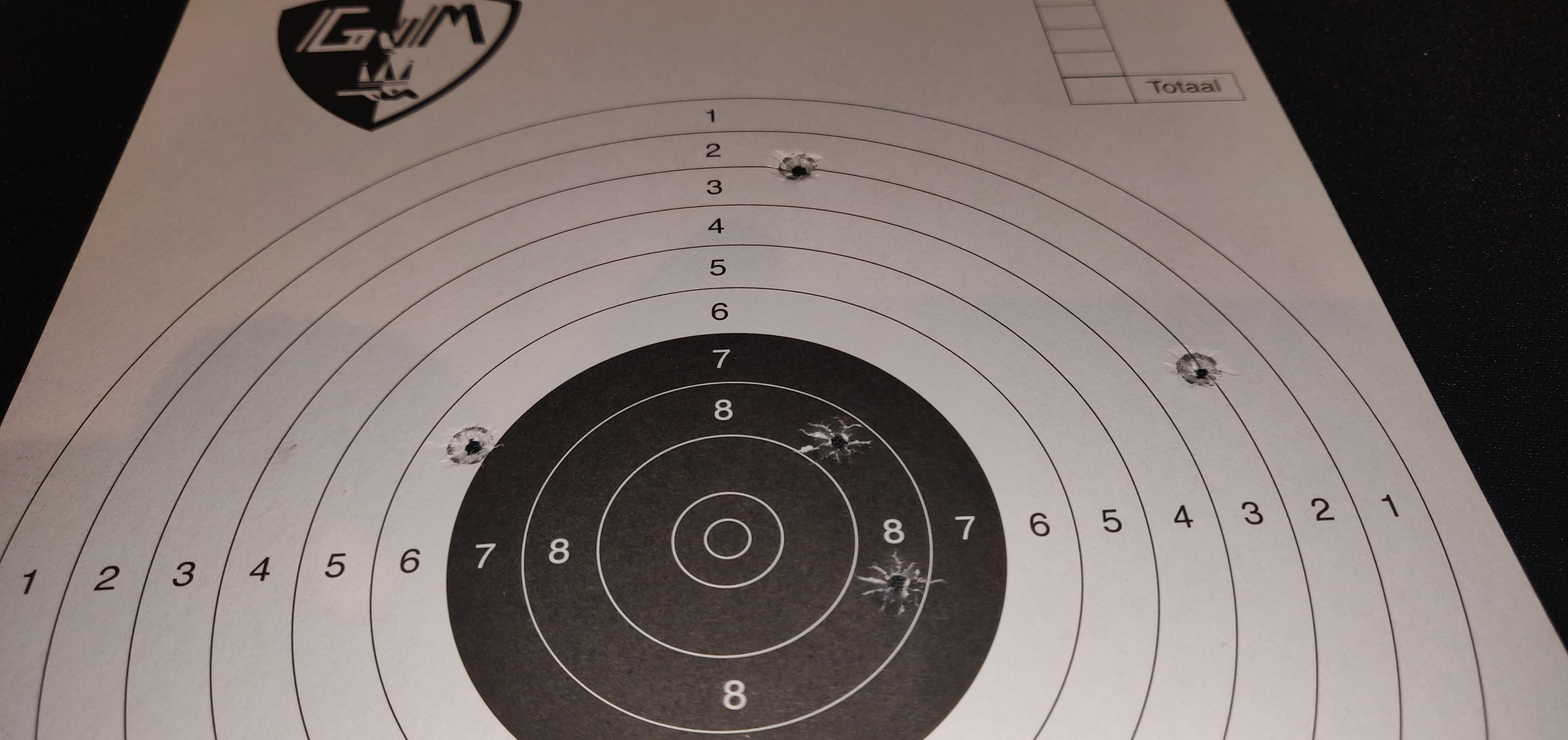hole: (854, 551, 944, 619), (791, 415, 875, 467), (431, 420, 505, 469), (1163, 348, 1239, 389), (767, 146, 823, 185)
